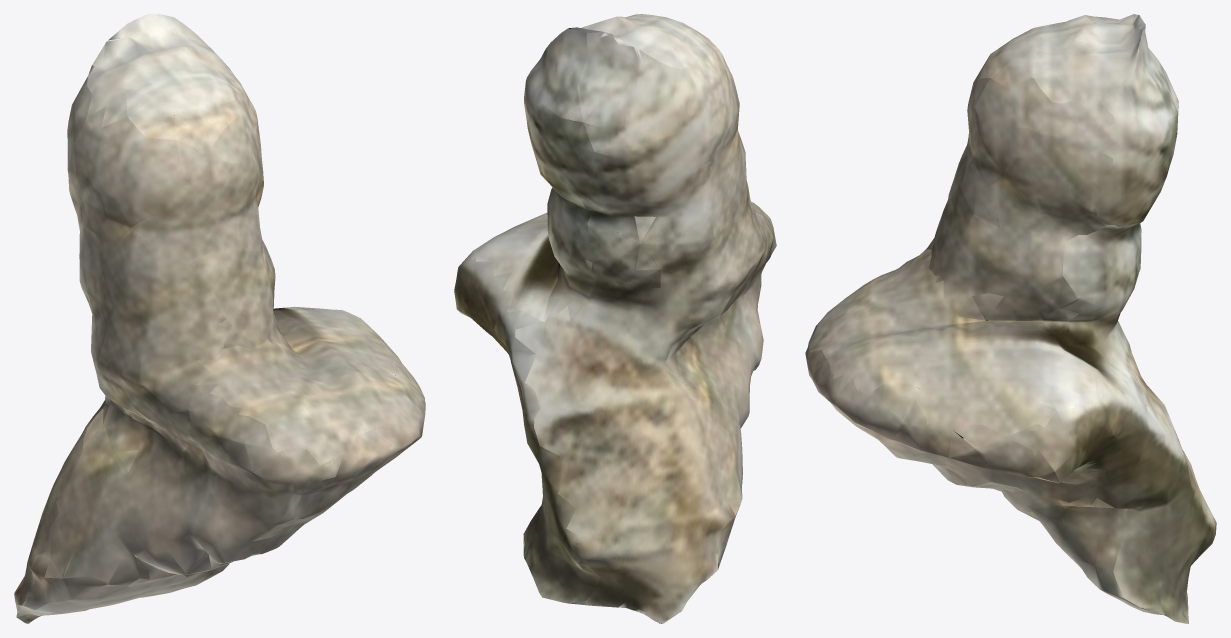
3 renders of one model, left to right at view 1: azimuth 30°, elevation 25°; view 2: azimuth 150°, elevation 25°; view 3: azimuth 270°, elevation 25°, orthographic. The views are drawn at different scales.
Visible parts, largest first — view 1: world; view 2: world; view 3: world.
Boxes of the visible parts, x1,y1,x2,y2 form: world: (14,14,425,623); world: (454,14,776,623); world: (805,14,1216,623).
Size of the model in its own units: 0.2675 by 0.4751 by 0.3014.
Materials: 1 (1 with a texture image).
